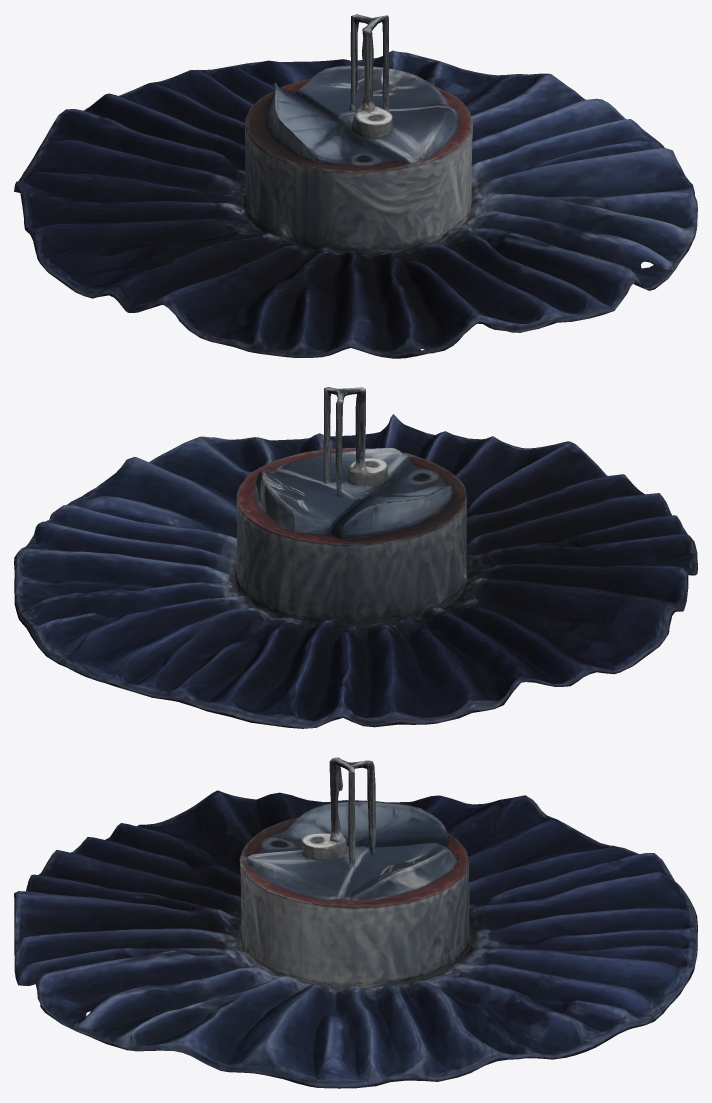
File: apollo-14-suprathermal-ion-detector.glb
3 renders of one model, top to bottom at view 1: azimuth 30°, elevation 25°; view 2: azimuth 150°, elevation 25°; view 3: azimuth 270°, elevation 25°, orthographic.
Visible parts, largest first — view 1: world; view 2: world; view 3: world.
Boxes of the visible parts, x1,y1,x2,y2 form: world: (14,14,697,358); world: (14,387,697,728); world: (14,757,697,1088).
Size of the model in its own units: 0.9897 by 0.3658 by 1.
Materials: 1 (1 with a texture image).
